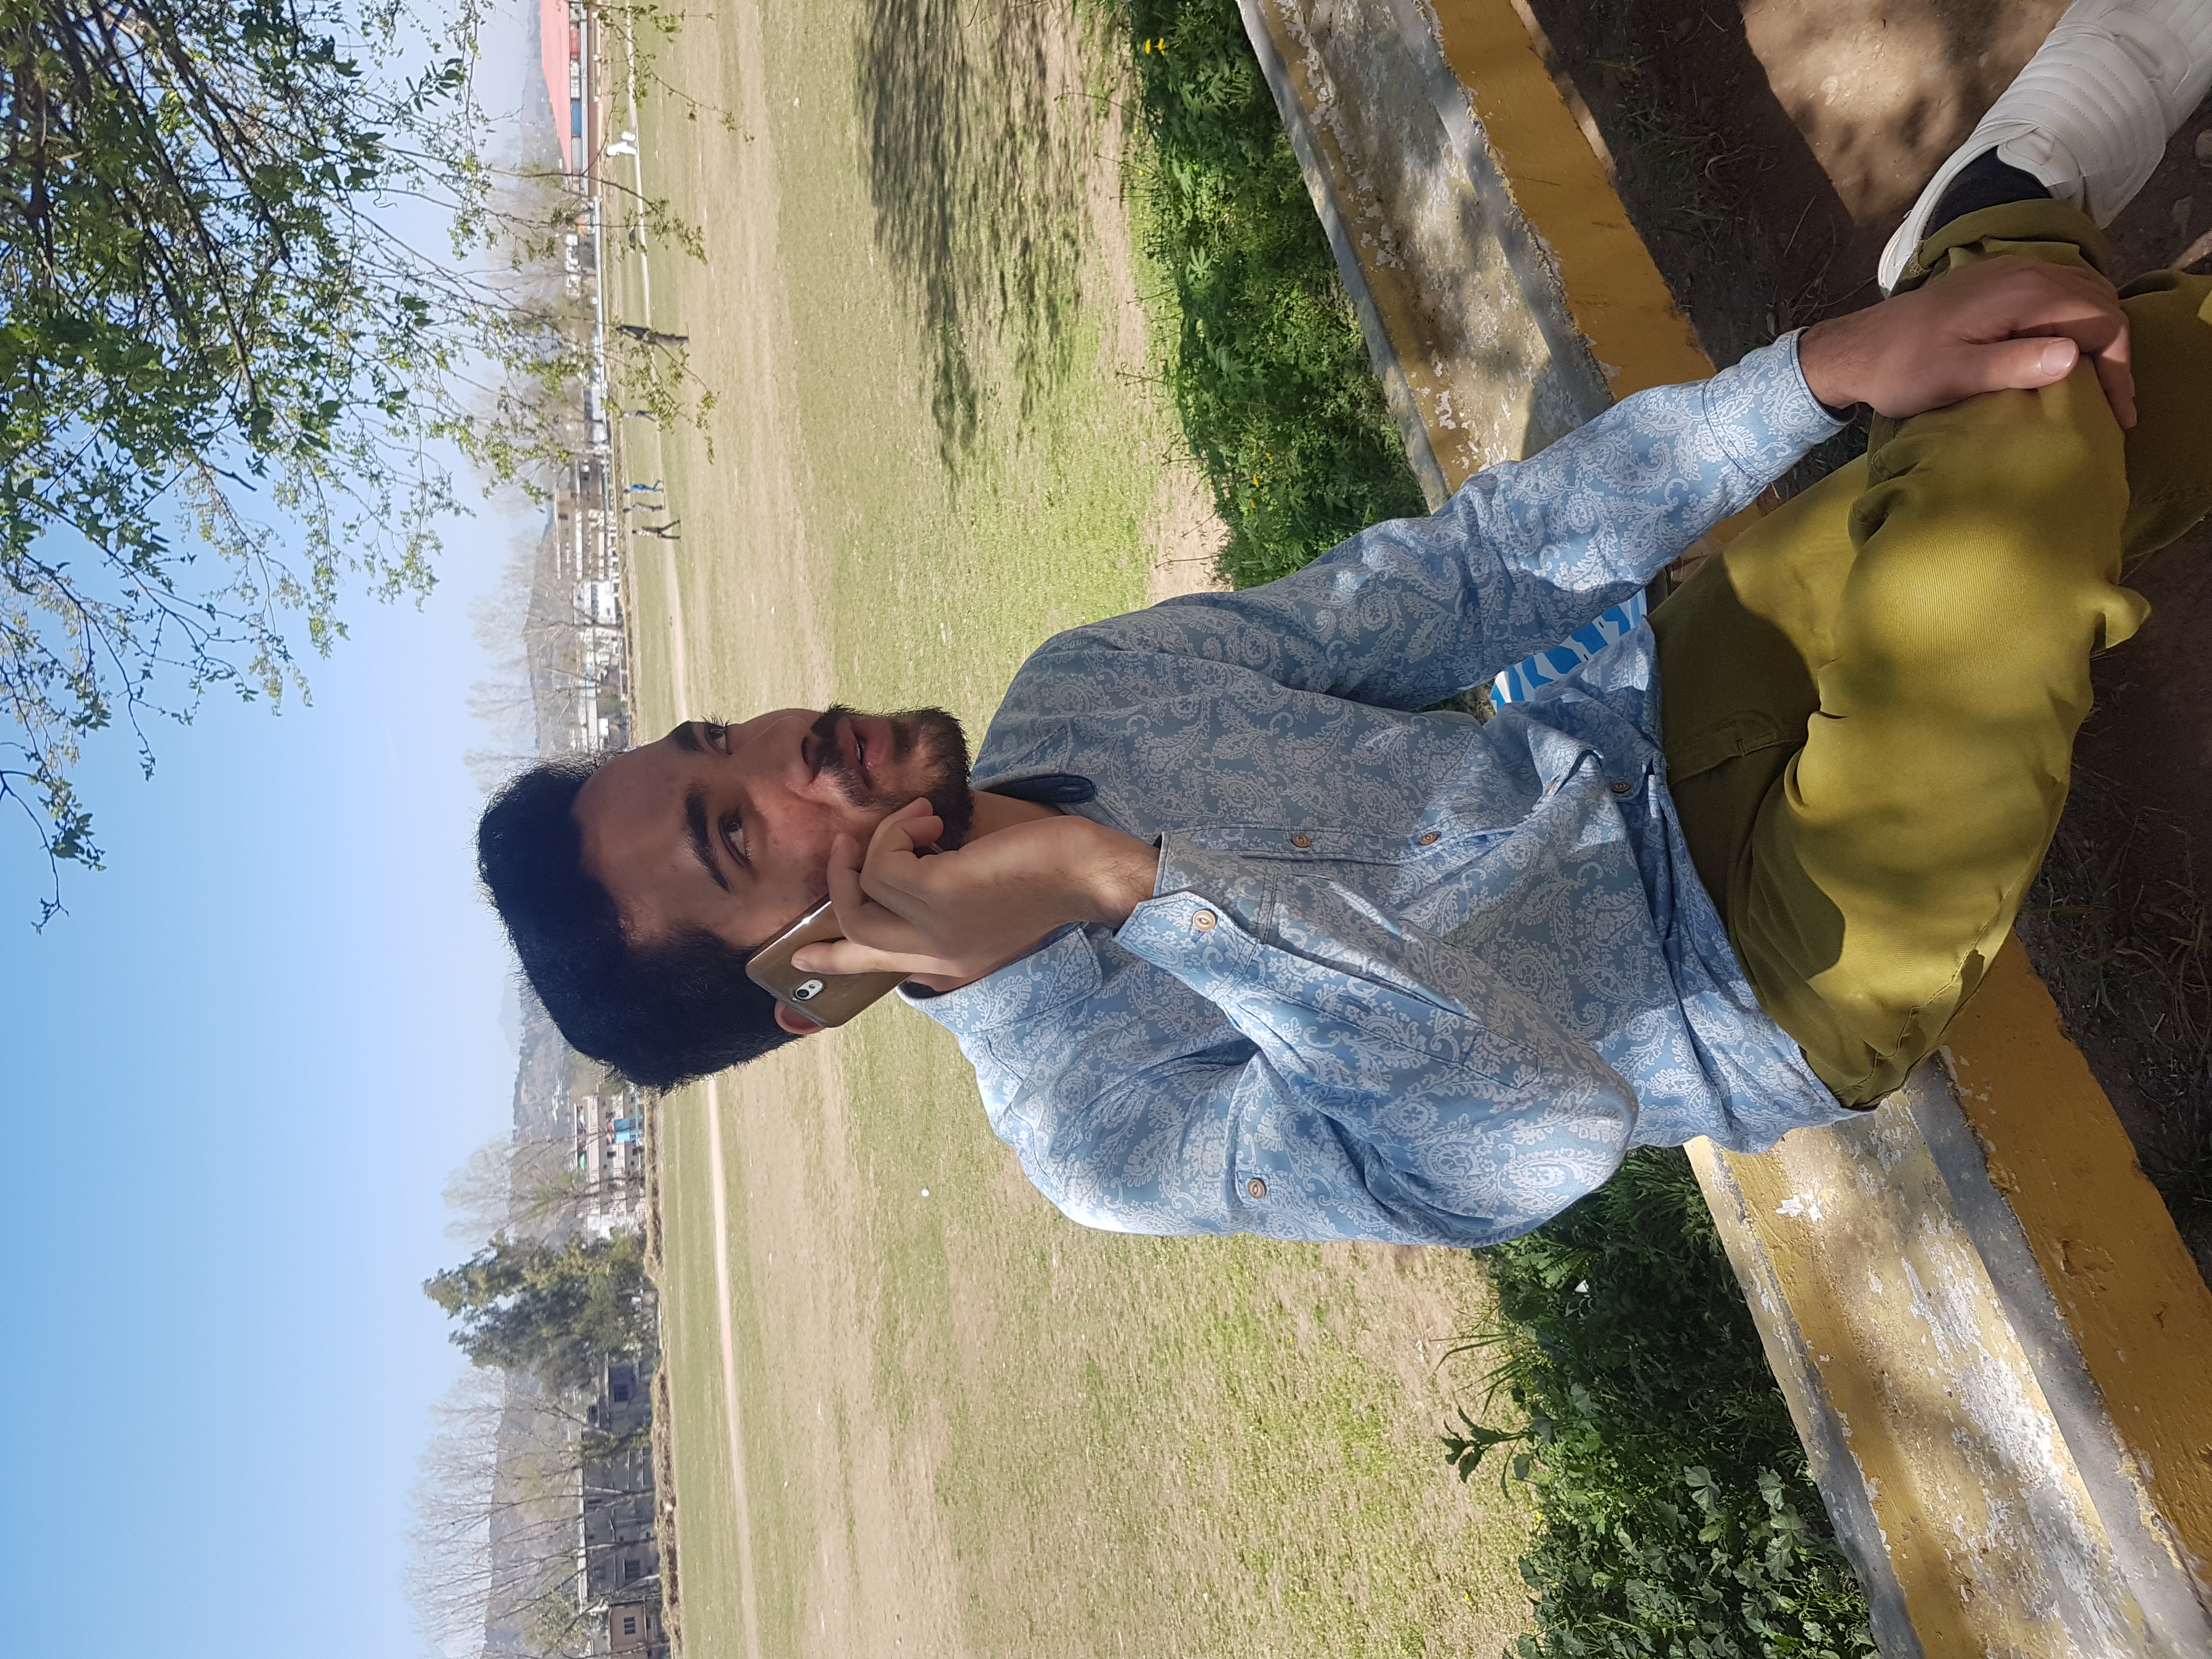face: (492, 691, 1000, 906)
mobile: (746, 912, 915, 1008)
